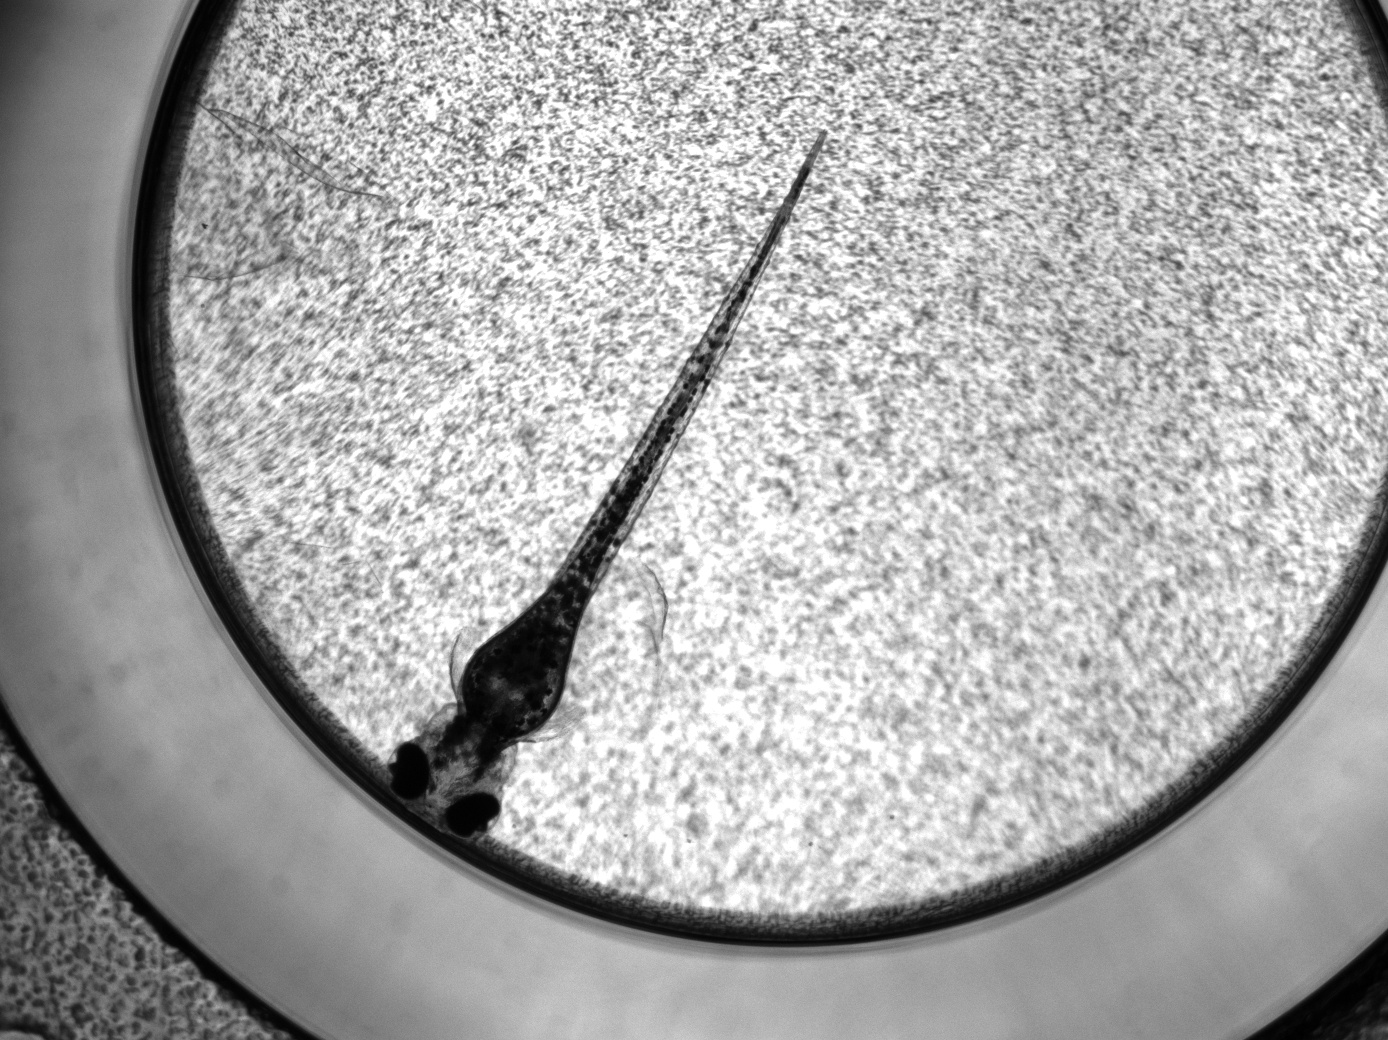embryo: (388, 130, 825, 840)
eye: (440, 794, 500, 840), (389, 742, 430, 800)
yolksac: (460, 622, 563, 734)
